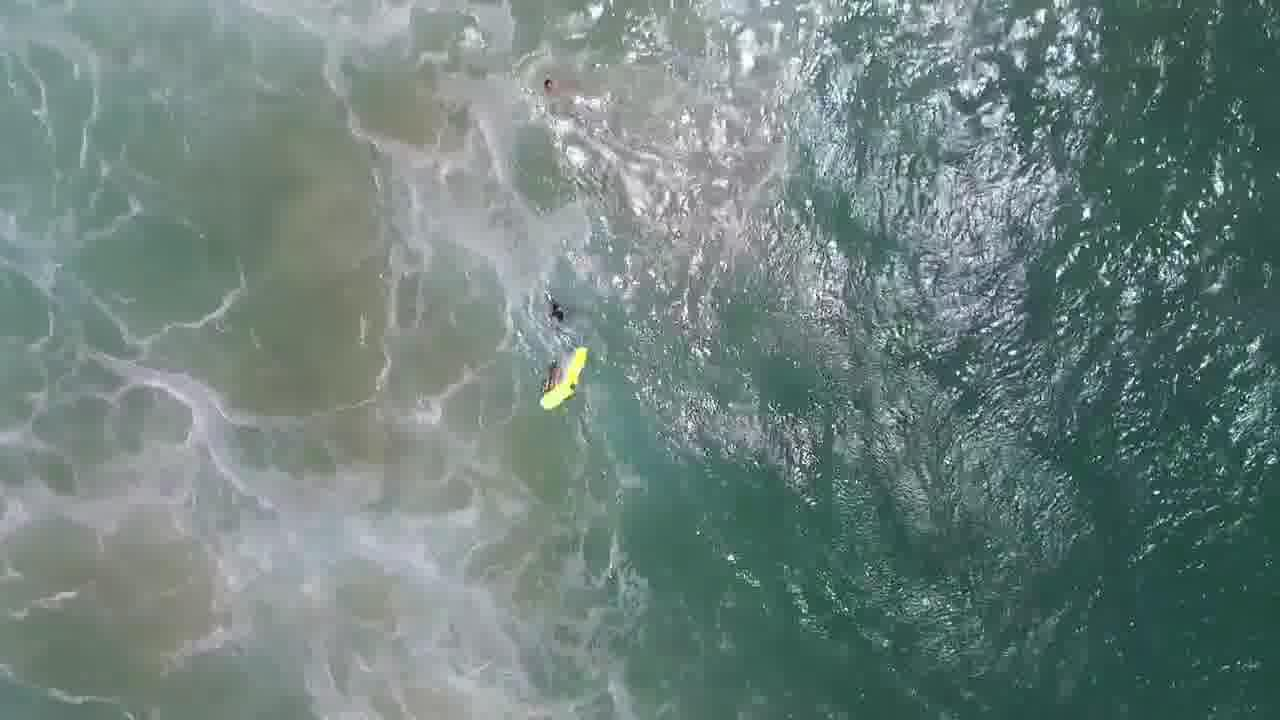swimmer: (544, 286, 578, 334)
